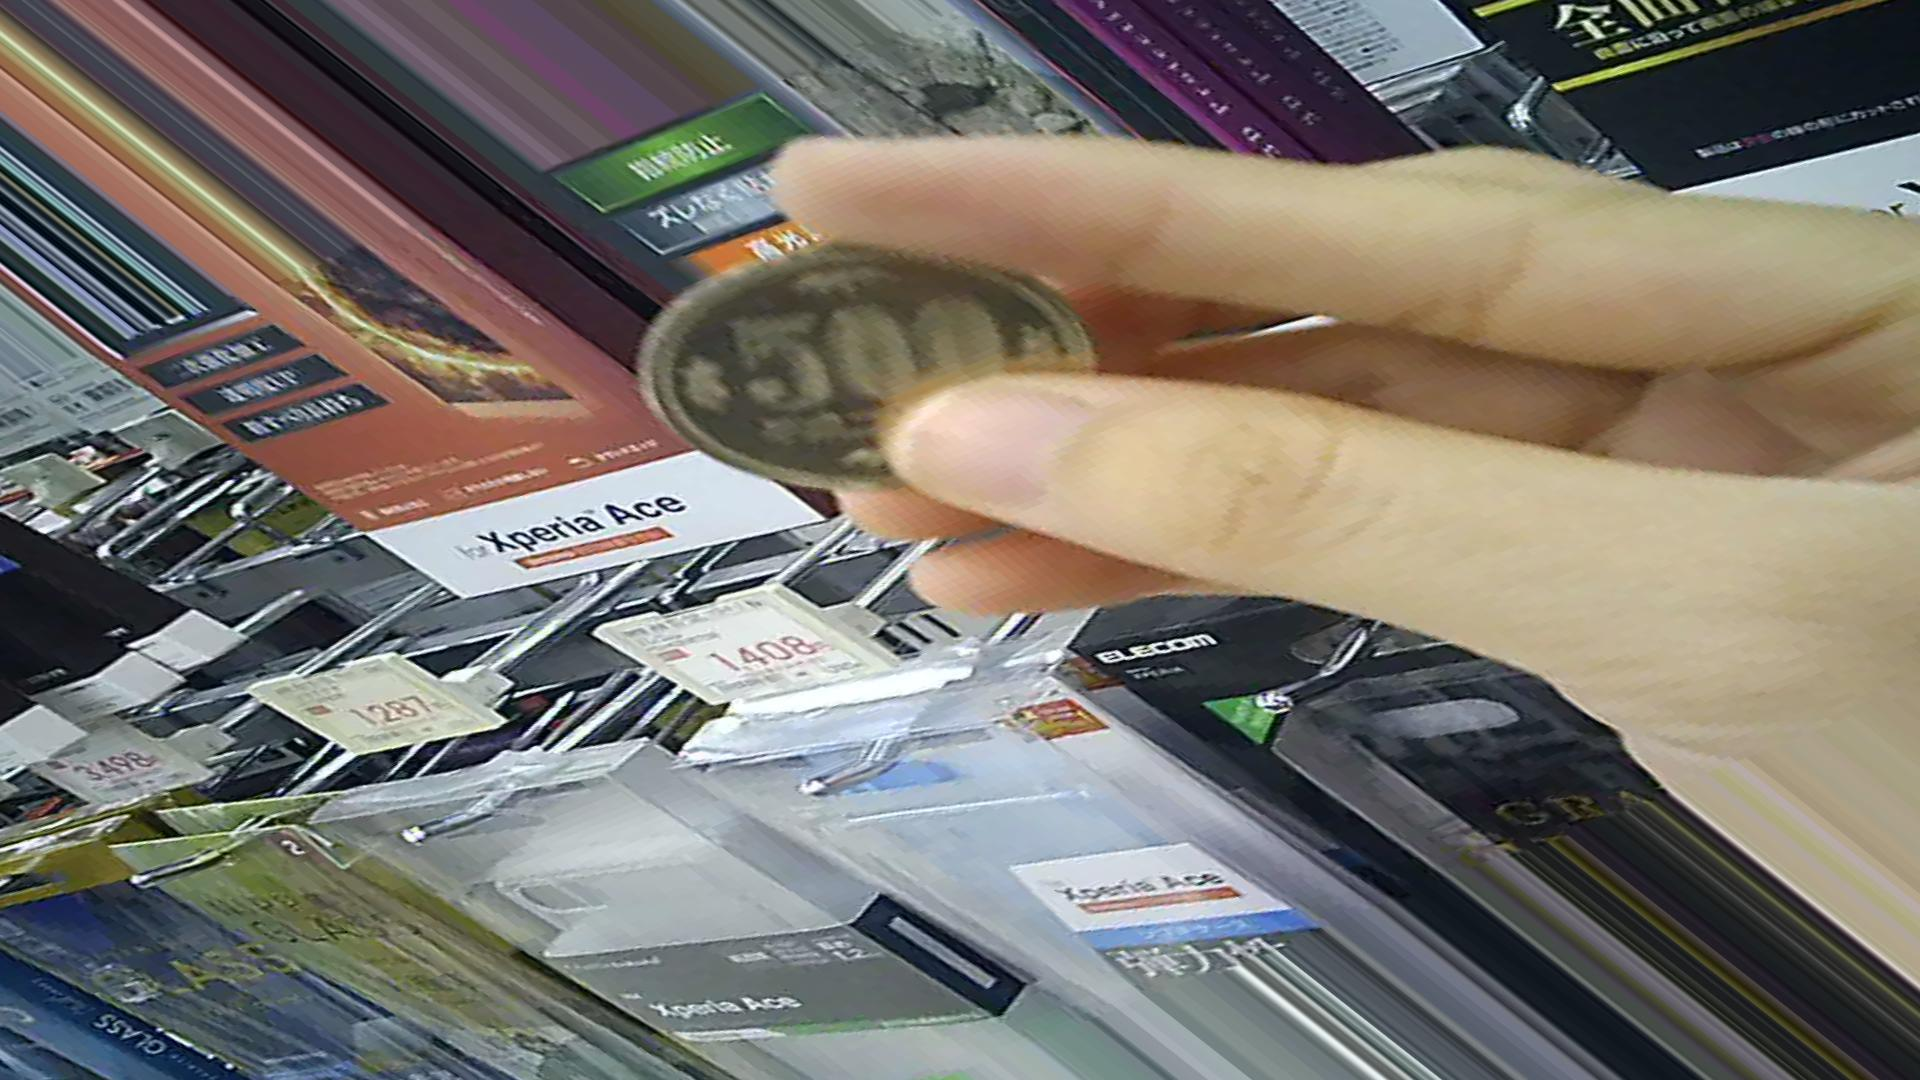500 Yen: (618, 245, 1131, 516)
